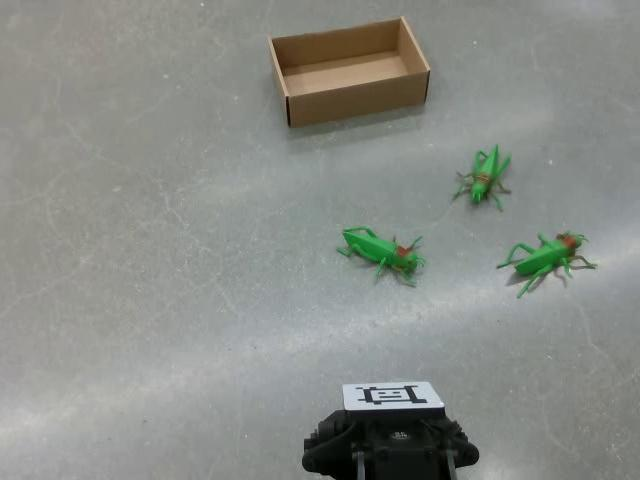box: (266, 14, 431, 128)
grasshopper: (495, 229, 597, 299), (335, 224, 425, 287), (450, 143, 512, 212)
